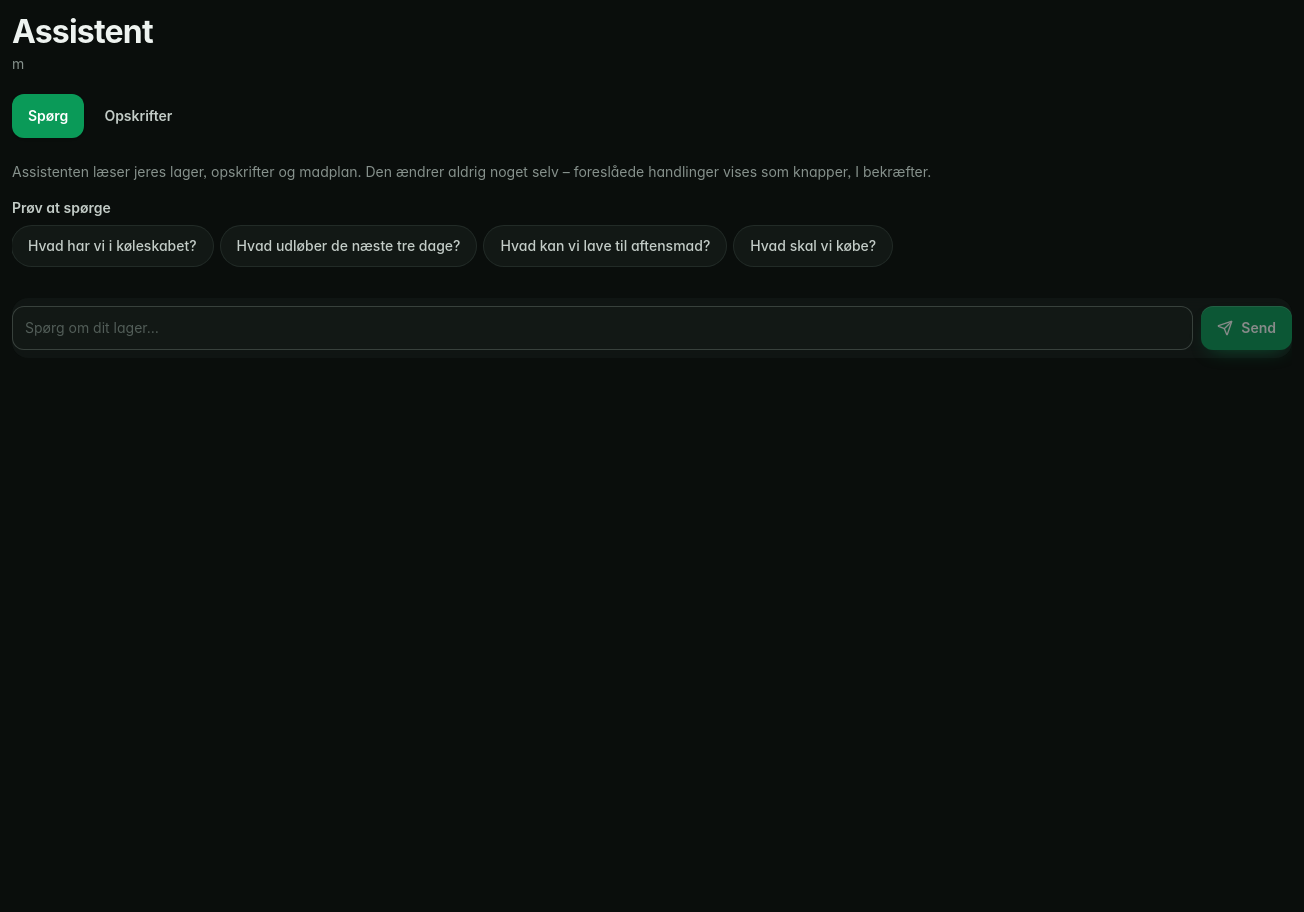
it: AssistantPage › shows recipes and adds missing items only after an explicit click
Click the tab "Opskrifter" at [138, 116], box [88, 94, 188, 138]
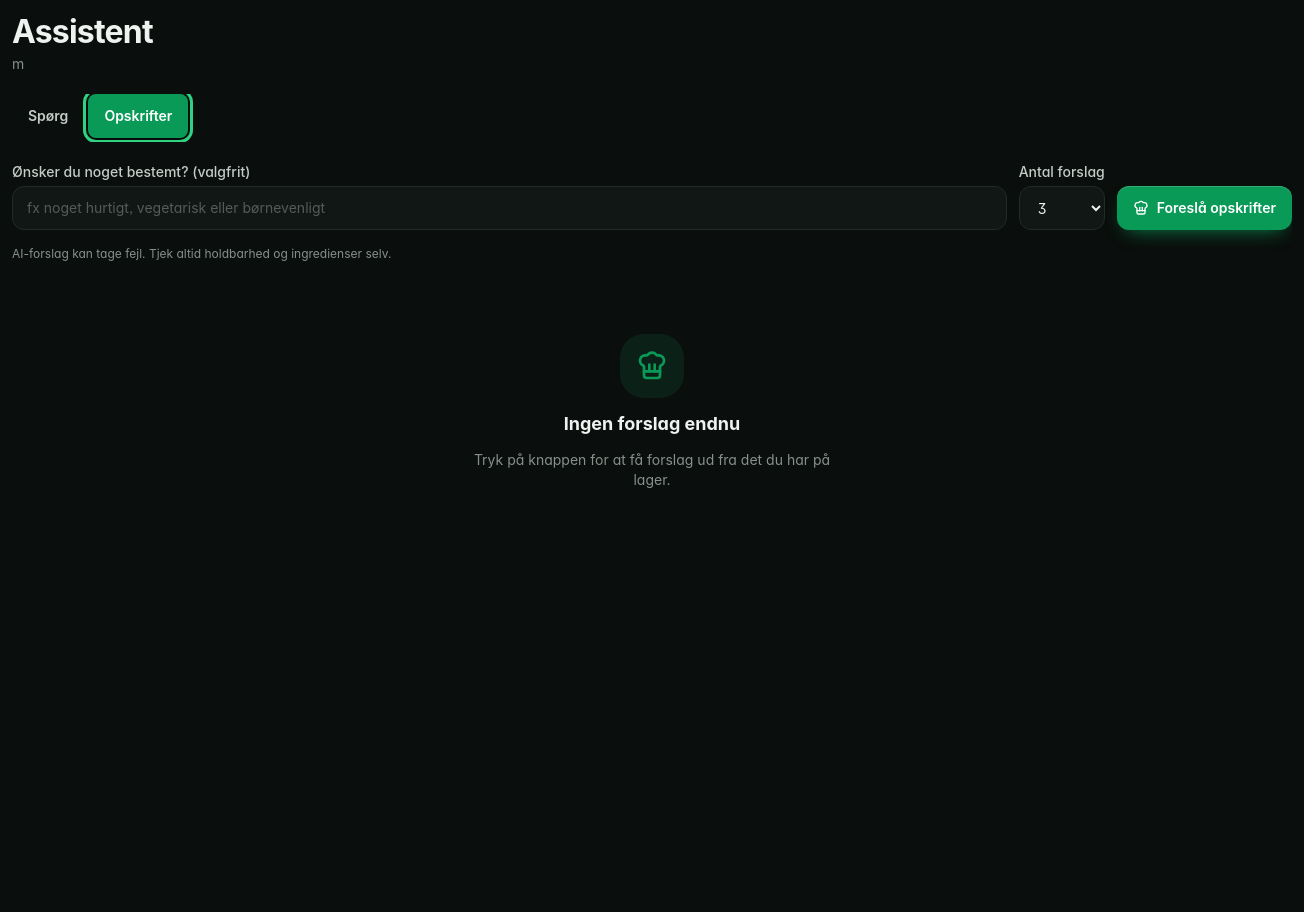
Click the button "Foreslå opskrifter" at [1204, 208], box [1117, 186, 1292, 230]
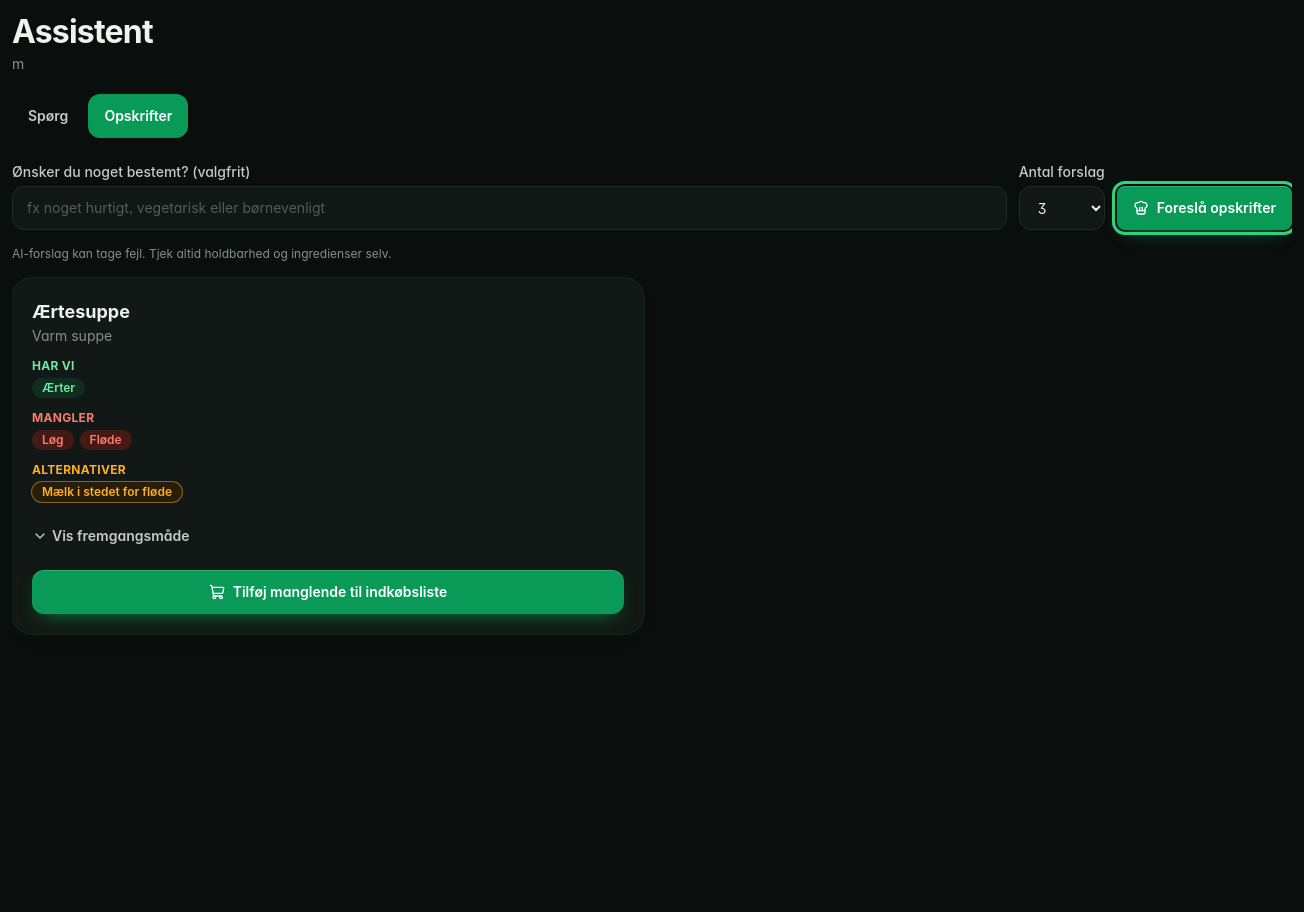
expect the heading "Ærtesuppe" is shown: met, box [32, 301, 130, 322]
expect the heading "Har vi" is shown: met, box [32, 358, 75, 373]
expect the heading "Mangler" is shown: met, box [32, 410, 94, 425]
Click the button "Tilføj manglende til indkøbsliste" at [328, 592], box [32, 570, 624, 614]
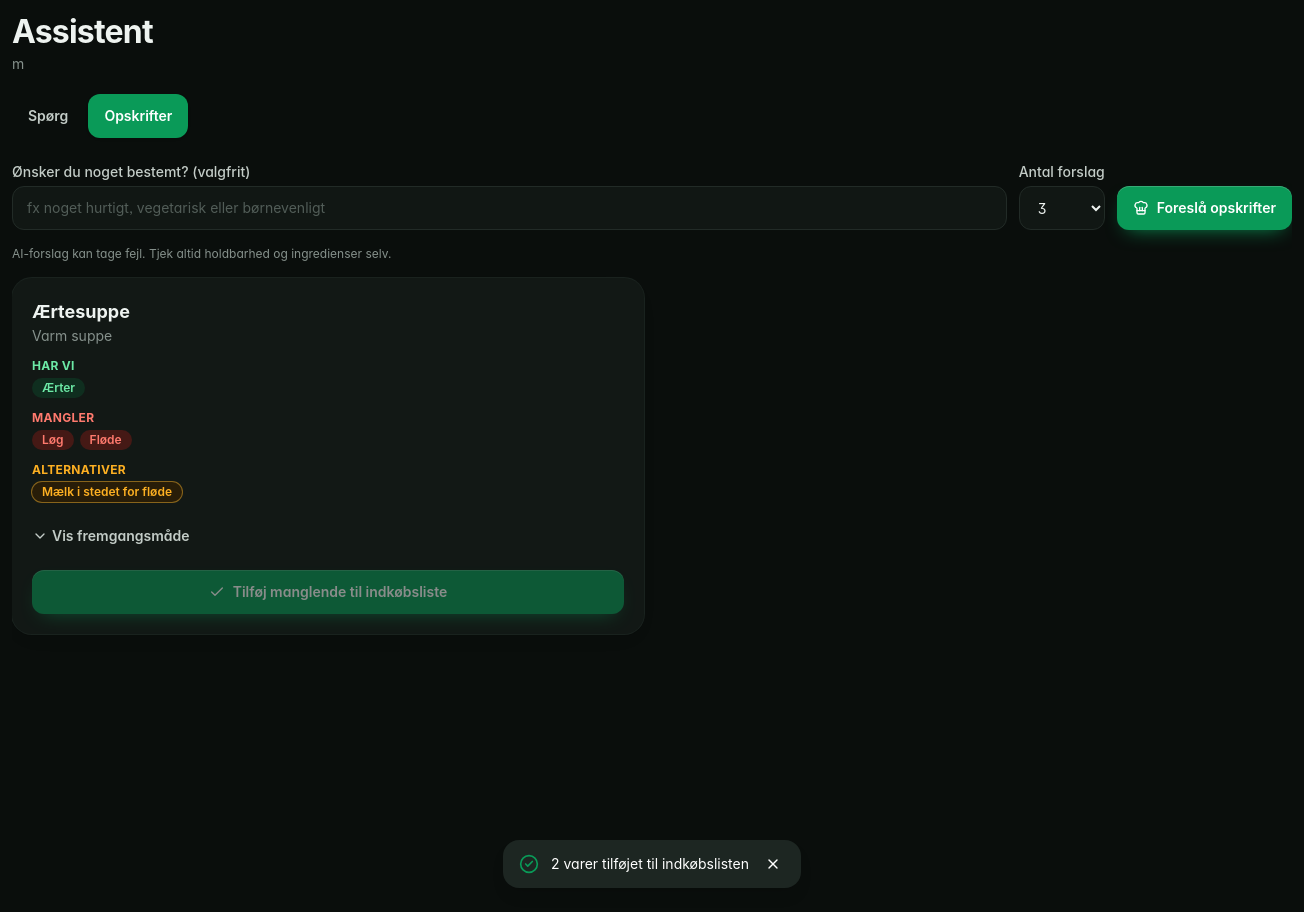
Click the button "Vis fremgangsmåde" at [111, 536], box [32, 514, 190, 558]
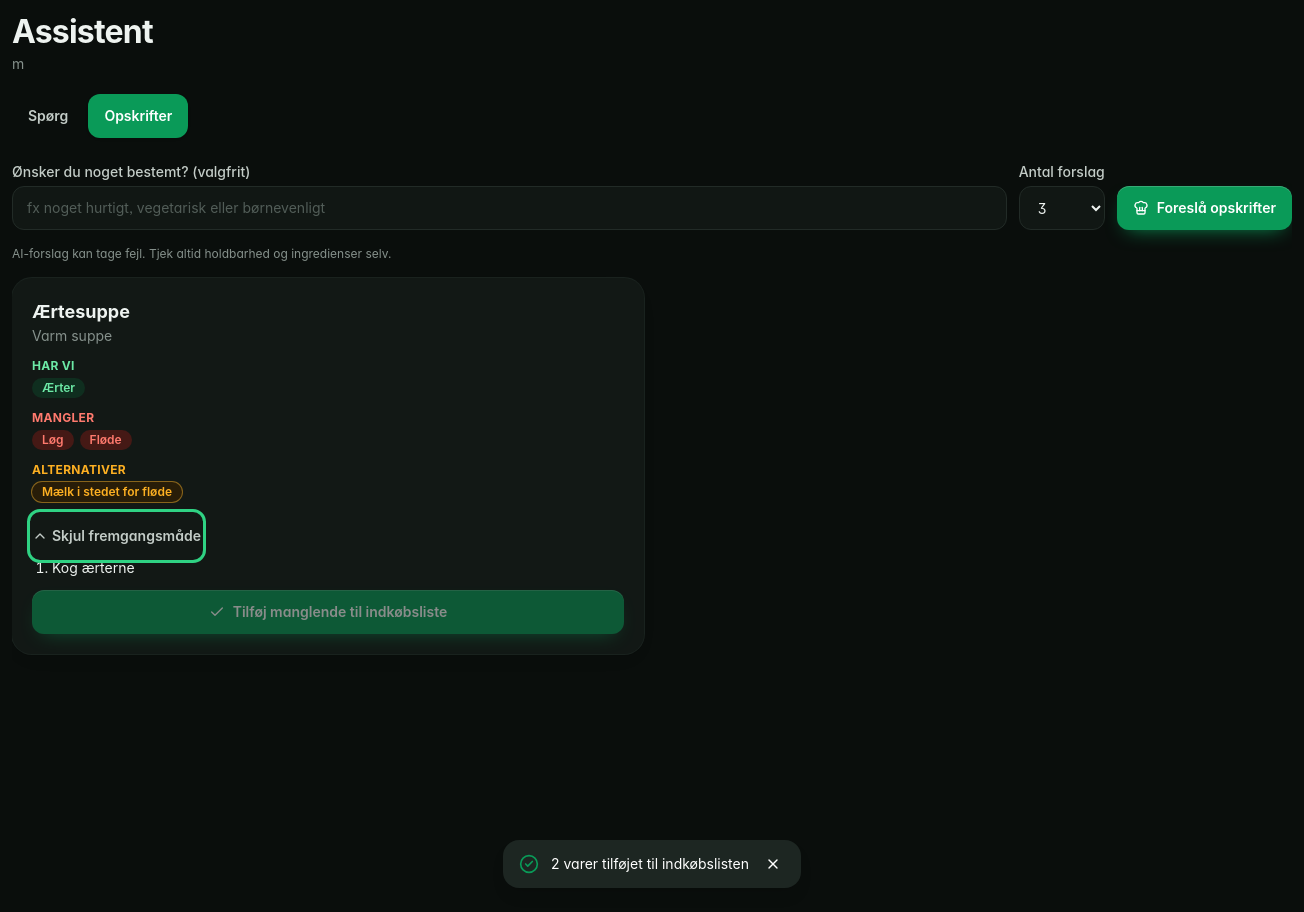
expect the list item "Kog ærterne" is shown: met, box [52, 559, 135, 576]
